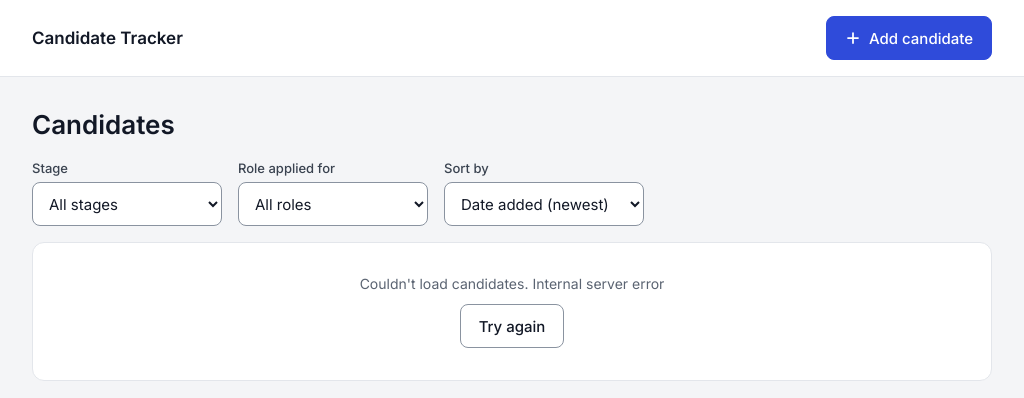
Test: candidate list › shows the error and can try again
Check: the message shows "Couldn't load candidates. Internal server error", box [360,275,664,348]
Click the button "Try again" at (512, 326), box [460,304,564,348]
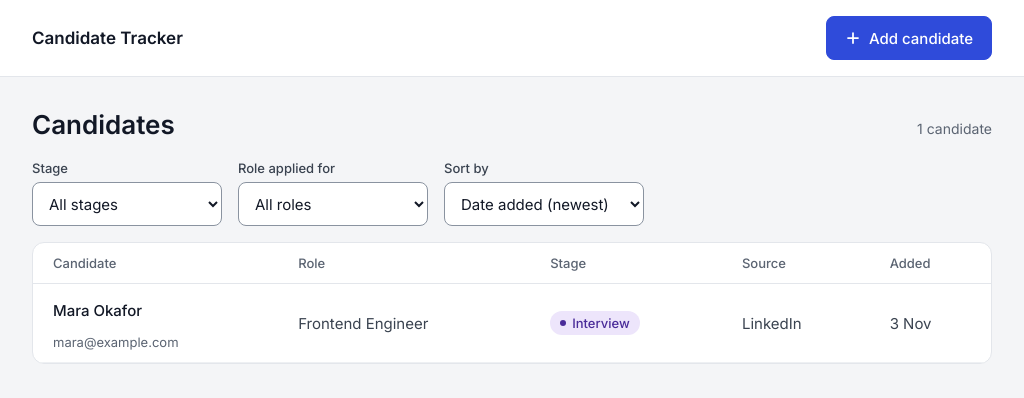
Check: the link "Mara Okafor" is shown, box [53,300,142,320]
